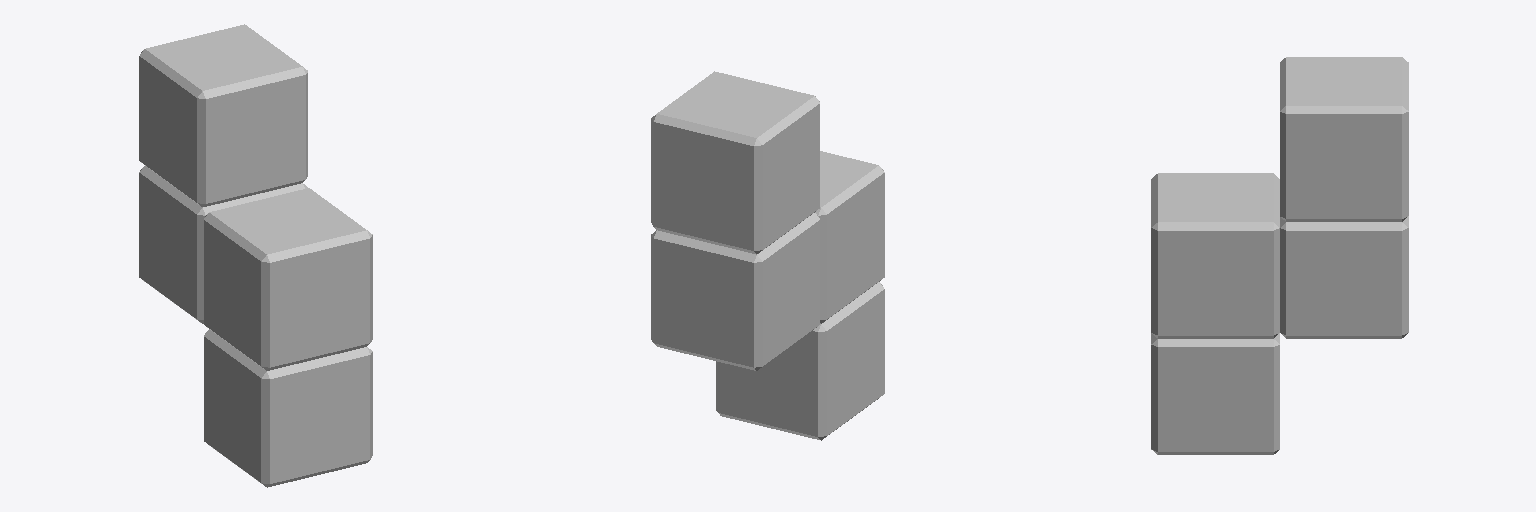
Rendered from fig7.obj.
The picture shows the model from 3 angles: view 1: azimuth 30°, elevation 25°; view 2: azimuth 150°, elevation 25°; view 3: azimuth 270°, elevation 25°; orthographic projection.
Parts seen in each view (by area): view 1: Cube.001, Cube.003, Cube, Cube.002; view 2: Cube.003, Cube.002, Cube, Cube.001; view 3: Cube.001, Cube.003, Cube.002, Cube.
Boxes of the visible parts, x1=… form: Cube.001: x1=204, y1=188, x2=372, y2=370; Cube.003: x1=139, y1=24, x2=307, y2=206; Cube: x1=204, y1=329, x2=372, y2=487; Cube.002: x1=139, y1=166, x2=307, y2=323; Cube.003: x1=651, y1=71, x2=819, y2=254; Cube.002: x1=651, y1=213, x2=819, y2=370; Cube: x1=716, y1=282, x2=884, y2=440; Cube.001: x1=815, y1=151, x2=884, y2=323; Cube.001: x1=1151, y1=173, x2=1279, y2=338; Cube.003: x1=1280, y1=57, x2=1408, y2=221; Cube.002: x1=1280, y1=216, x2=1408, y2=338; Cube: x1=1151, y1=333, x2=1279, y2=454.
Bounding box in the file's own units: 2 × 6 × 4.